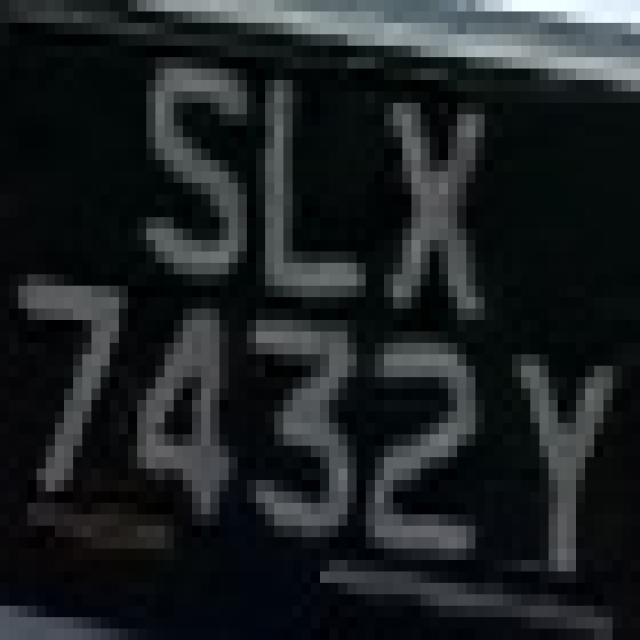2: (338, 331, 503, 583)
3: (228, 320, 366, 606)
4: (119, 263, 265, 548)
7: (0, 228, 128, 548)
L: (256, 68, 393, 332)
S: (101, 23, 256, 286)
X: (329, 34, 521, 297)
Y: (484, 331, 622, 583)
